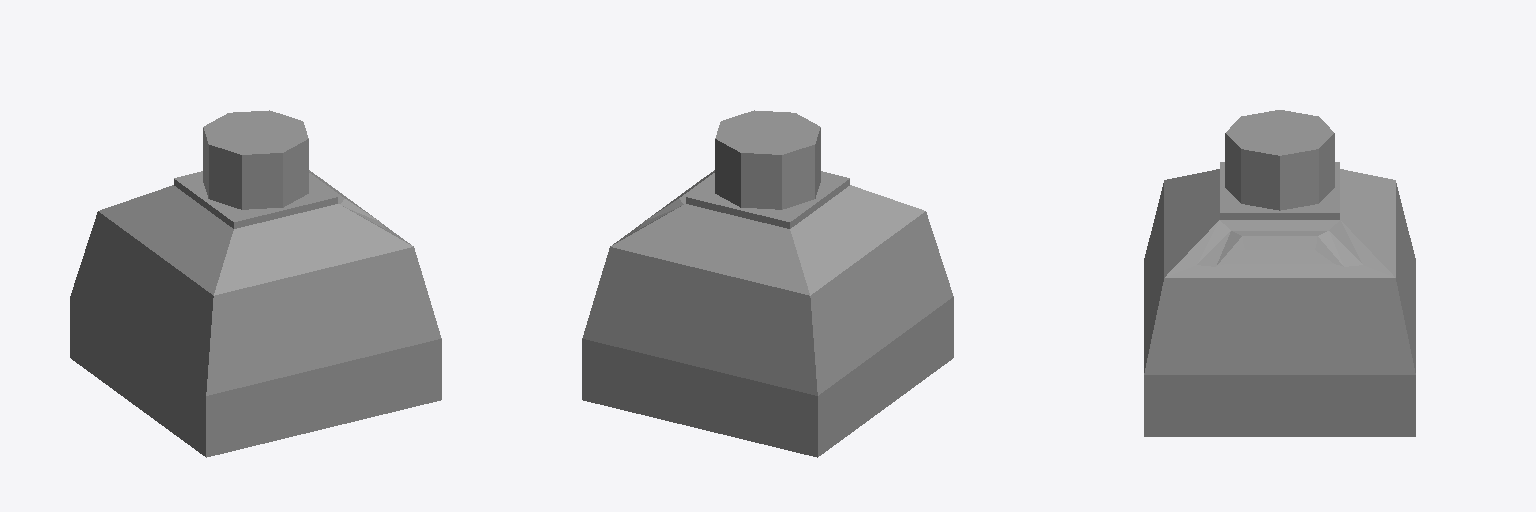
Rendered from AntennaBase.obj.
3 renders of one model, left to right at view 1: azimuth 30°, elevation 25°; view 2: azimuth 150°, elevation 25°; view 3: azimuth 270°, elevation 25°, orthographic.
Visible parts, largest first — view 1: Antenna_Base_Cube; view 2: Antenna_Base_Cube; view 3: Antenna_Base_Cube.
Part boxes in pixels (x1,y1,x2,y2): Antenna_Base_Cube: (70,110,441,457); Antenna_Base_Cube: (582,110,953,457); Antenna_Base_Cube: (1144,110,1415,436).
Bounding box in the file's own units: 1 × 1 × 1.